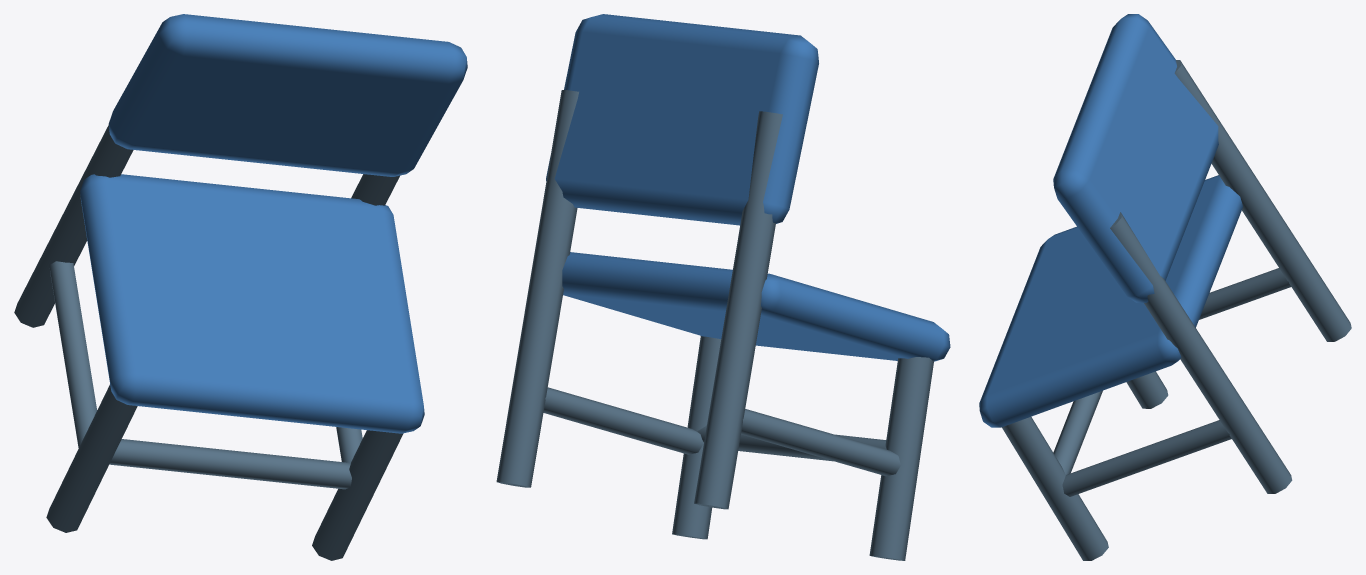
Rendered from chair.glb.
3 views of the same model, side by side, from view 1: azimuth 30°, elevation 25°; view 2: azimuth 150°, elevation 25°; view 3: azimuth 270°, elevation 25° (orthographic). The views are drawn at different scales.
Size of the model in its own units: 0.8519 by 1.22 by 0.8448.
